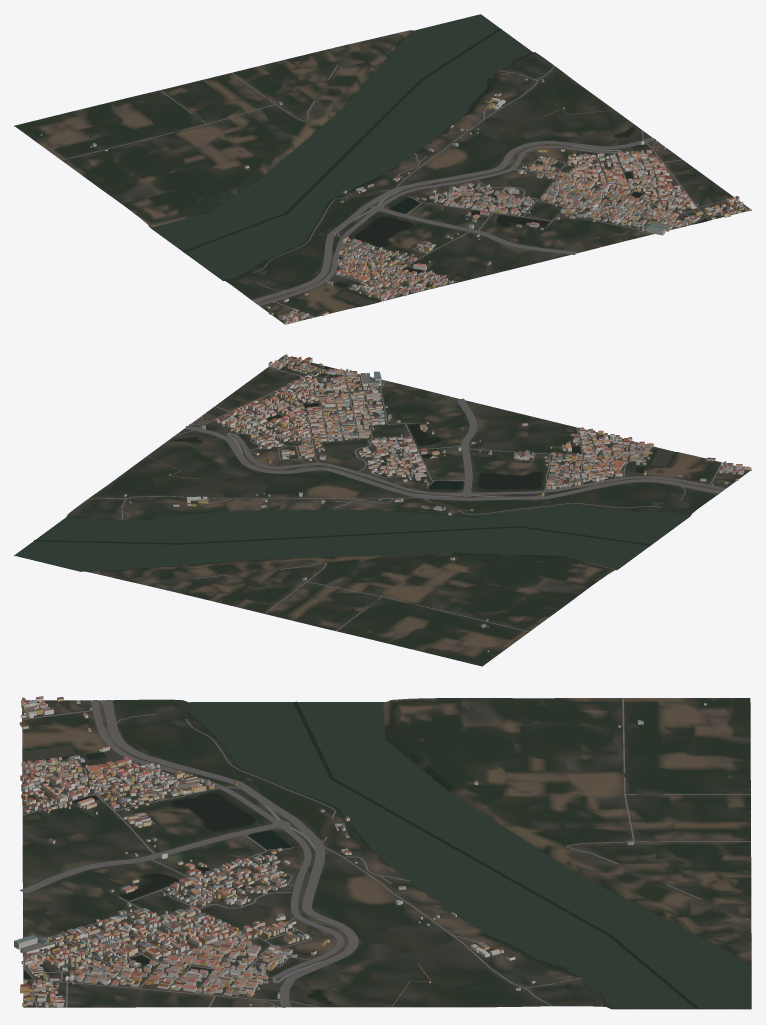
The picture shows the model from 3 angles, top to bottom: view 1: azimuth 30°, elevation 25°; view 2: azimuth 150°, elevation 25°; view 3: azimuth 270°, elevation 25°; orthographic projection. The views are drawn at different scales.
Visible parts, largest first — view 1: ground, water, buildings, roads; view 2: ground, water, buildings, roads; view 3: ground, water, buildings, roads.
Part boxes in pixels (box(x1,y1,x2,y2)): ground: box(14, 14, 751, 323); water: box(151, 14, 708, 305); buildings: box(40, 78, 750, 324); roads: box(61, 44, 746, 321); ground: box(14, 355, 751, 666); water: box(15, 366, 688, 570); buildings: box(123, 354, 751, 651); roads: box(88, 359, 745, 631); ground: box(22, 698, 751, 1009); water: box(22, 701, 751, 1009); buildings: box(14, 696, 706, 1007); roads: box(19, 698, 751, 1007).
Bounding box in the file's own units: 1406 × 20.33 × 1420.
